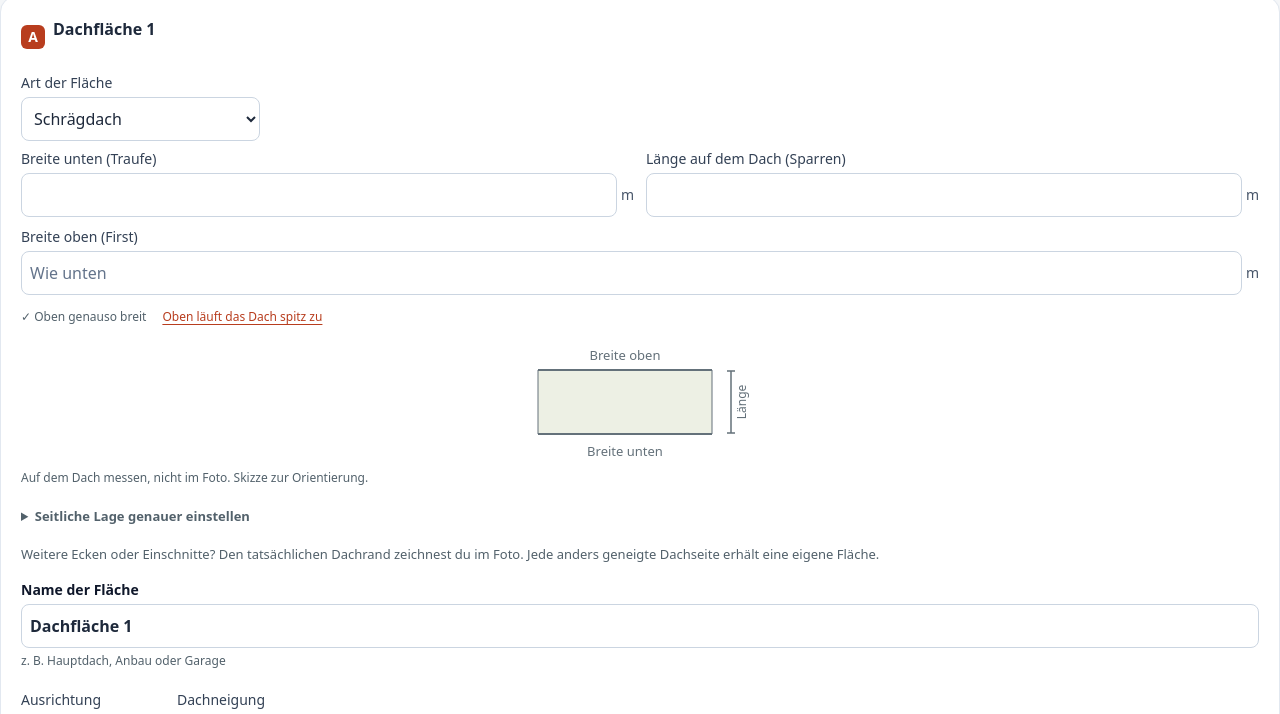
Test case: Montage im Vertrieb › erklärt automatisch vergrößerte Reihenabstände bis zur bewussten Abstandskorrektur
Step 1. Select "Freifläche · Modultische" in the dropdown labelled "Art der Fläche" → {"x": 140, "y": 119}, box [21,97,260,141]
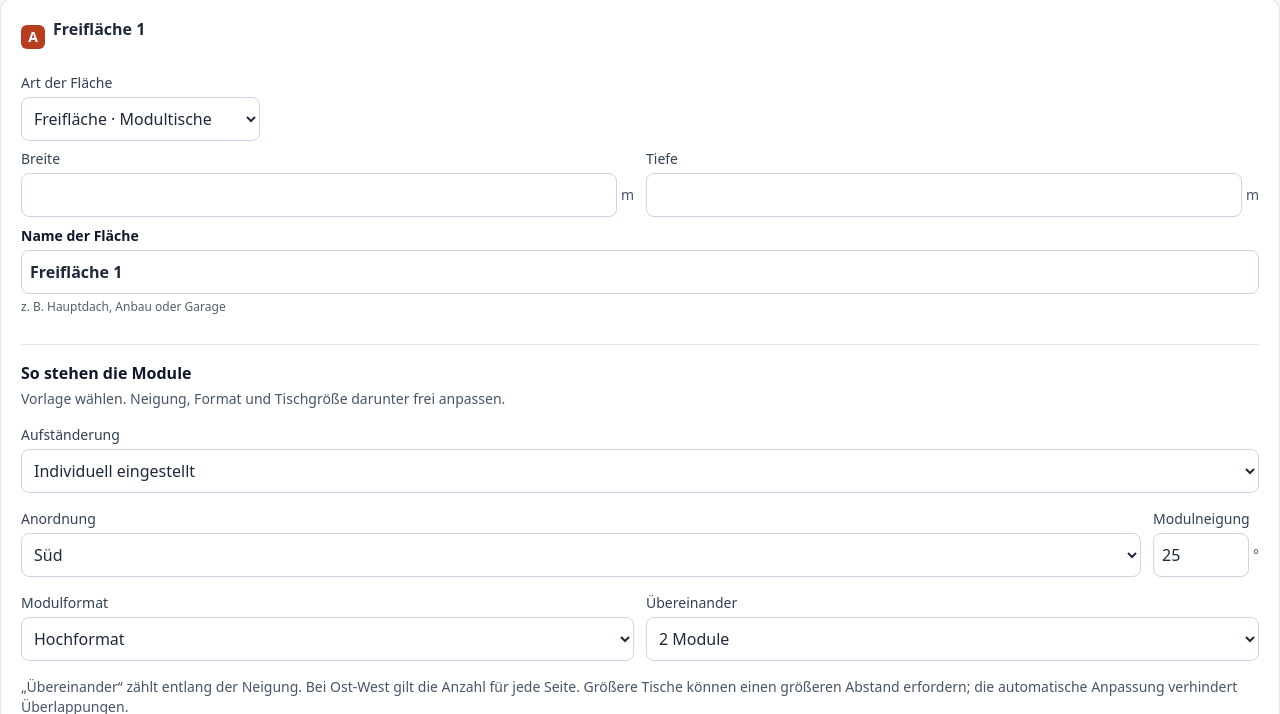
Step 2. Select "6 Module" in the dropdown named "Module übereinander je Tischseite" → {"x": 952, "y": 639}, box [646,617,1259,661]
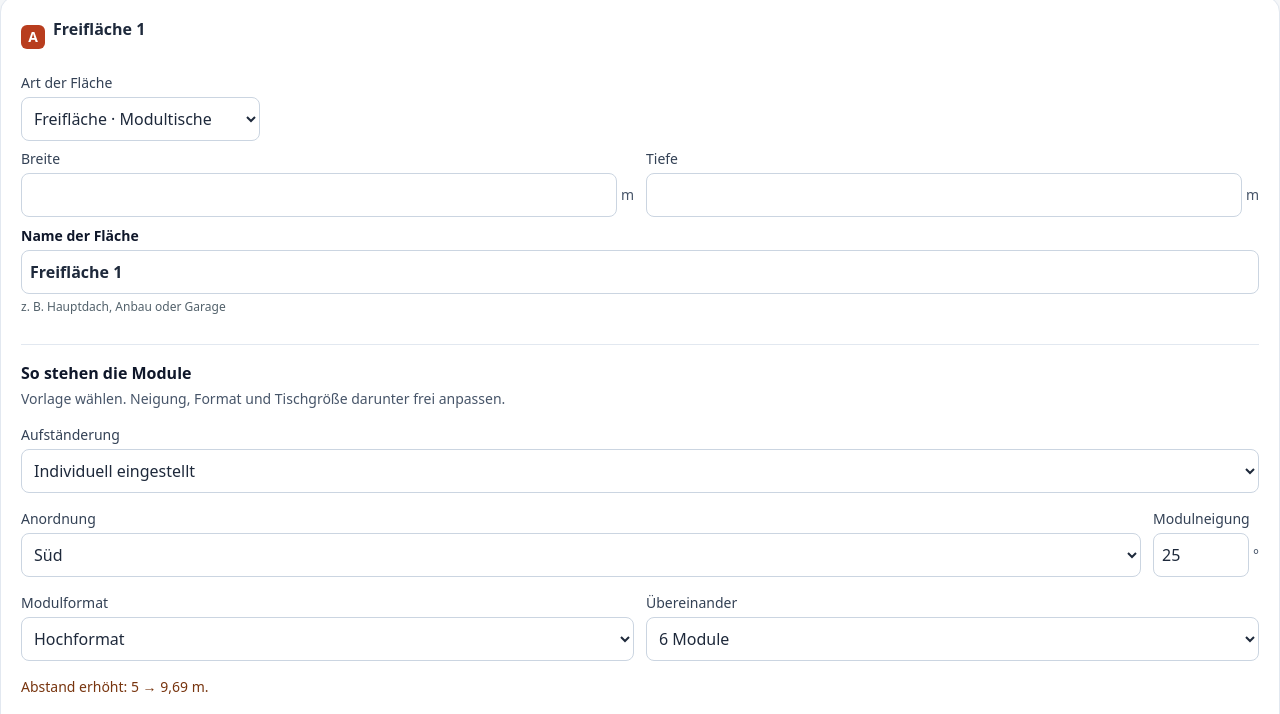
Result: the message shows "Abstand erhöht: 5 → 9,69 m" at [21,677,208,696]
Step 3. Select "2 Module" in the dropdown named "Module übereinander je Tischseite" → {"x": 952, "y": 639}, box [646,617,1259,661]
(page scrolled)
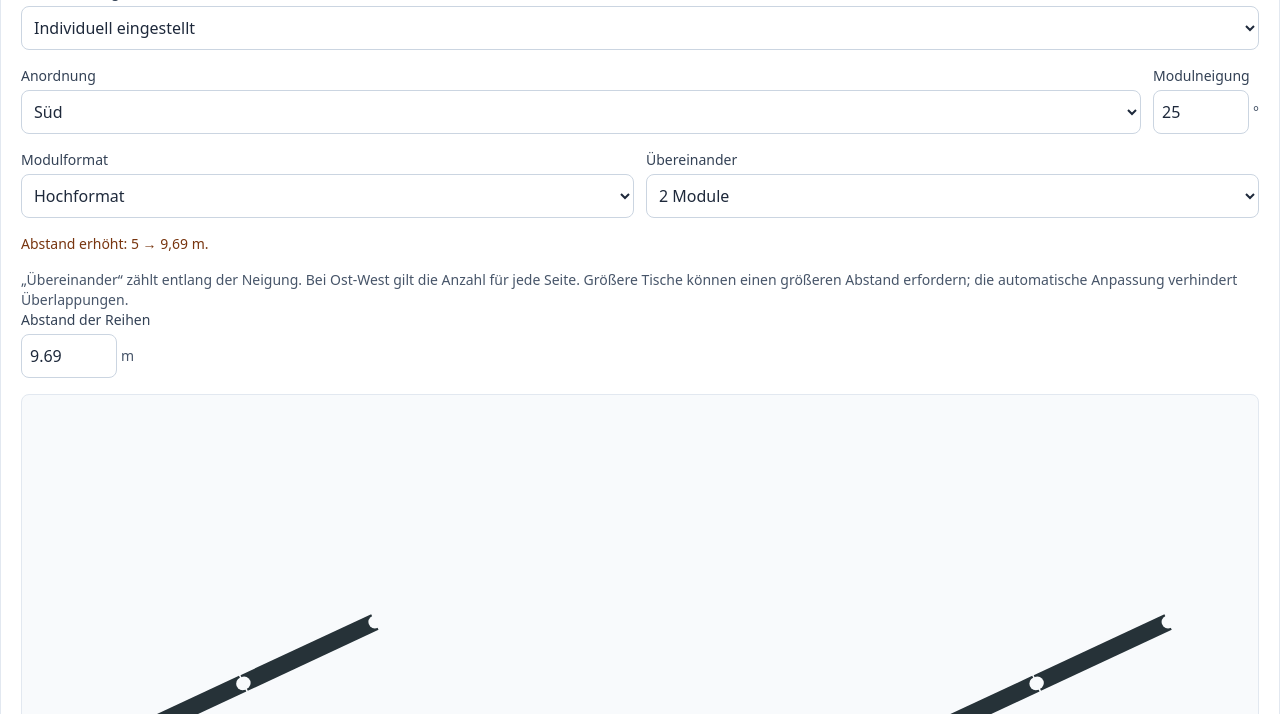
Result: the message shows "9,69" at [21,234,208,253]
Step 4. Replace the text in the field labelled "Abstand der Reihen m" with "5" → {"x": 69, "y": 356}, box [21,334,117,378]
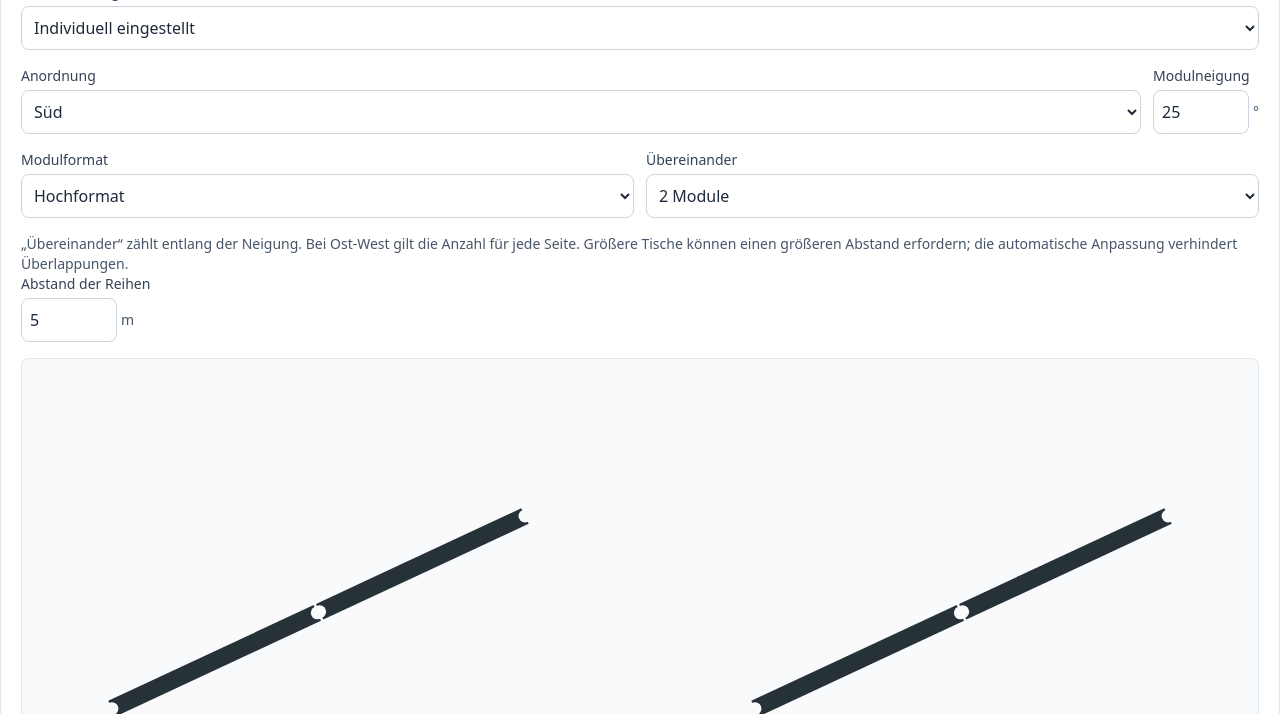
Result: the message "Abstand erhöht: 5 → 9,69 m." is gone
